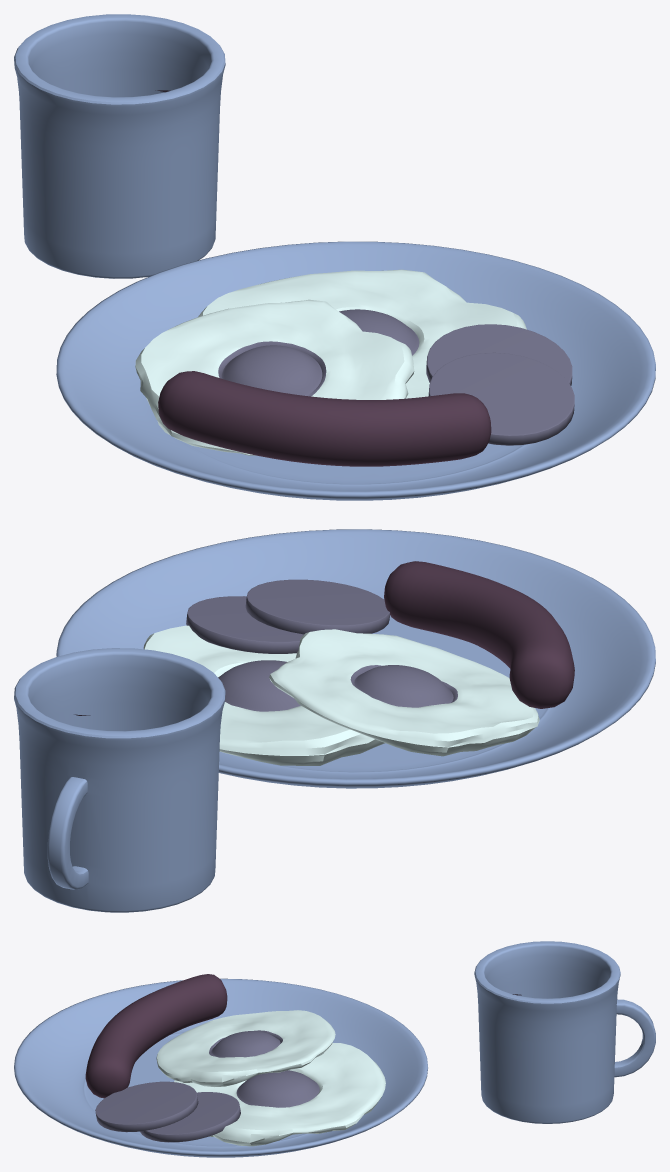
The model's file is Desyunolleno_osc.fbx.
3 views of the same model, one above another, from view 1: azimuth 30°, elevation 25°; view 2: azimuth 150°, elevation 25°; view 3: azimuth 270°, elevation 25° (orthographic). The views are drawn at different scales.
Parts seen in each view (by area): view 1: Plato, Taza, Salchicha, Huevo2, Huevo1, Arepa1, Arepa2; view 2: Plato, Taza, Huevo2, Salchicha, Huevo1, Arepa1, Arepa2; view 3: Taza, Plato, Huevo1, Huevo2, Salchicha, Arepa1, Arepa2.
Boxes of the visible parts, x1=… form: Plato: x1=56, y1=241, x2=655, y2=500; Taza: x1=14, y1=14, x2=225, y2=278; Salchicha: x1=158, y1=371, x2=491, y2=466; Huevo2: x1=135, y1=299, x2=414, y2=455; Huevo1: x1=198, y1=269, x2=526, y2=398; Arepa1: x1=428, y1=352, x2=574, y2=445; Arepa2: x1=426, y1=324, x2=572, y2=385; Plato: x1=56, y1=529, x2=655, y2=788; Taza: x1=14, y1=648, x2=225, y2=912; Huevo2: x1=269, y1=629, x2=539, y2=756; Salchicha: x1=384, y1=561, x2=574, y2=708; Huevo1: x1=143, y1=625, x2=384, y2=765; Arepa1: x1=245, y1=579, x2=389, y2=634; Arepa2: x1=186, y1=596, x2=303, y2=653; Taza: x1=474, y1=941, x2=655, y2=1123; Plato: x1=14, y1=978, x2=427, y2=1157; Huevo1: x1=174, y1=1043, x2=385, y2=1146; Huevo2: x1=156, y1=1010, x2=335, y2=1086; Salchicha: x1=85, y1=974, x2=227, y2=1098; Arepa1: x1=95, y1=1081, x2=198, y2=1132; Arepa2: x1=140, y1=1092, x2=240, y2=1142.
Bounding box in the file's own units: 597 × 202 × 926.
